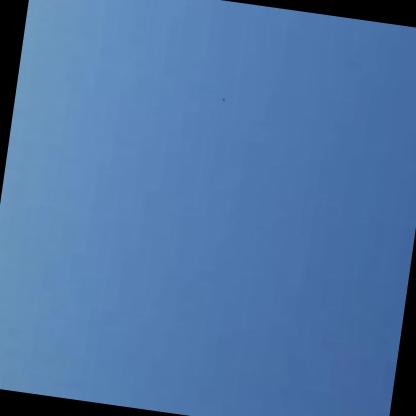plane: (214, 93, 230, 107)
